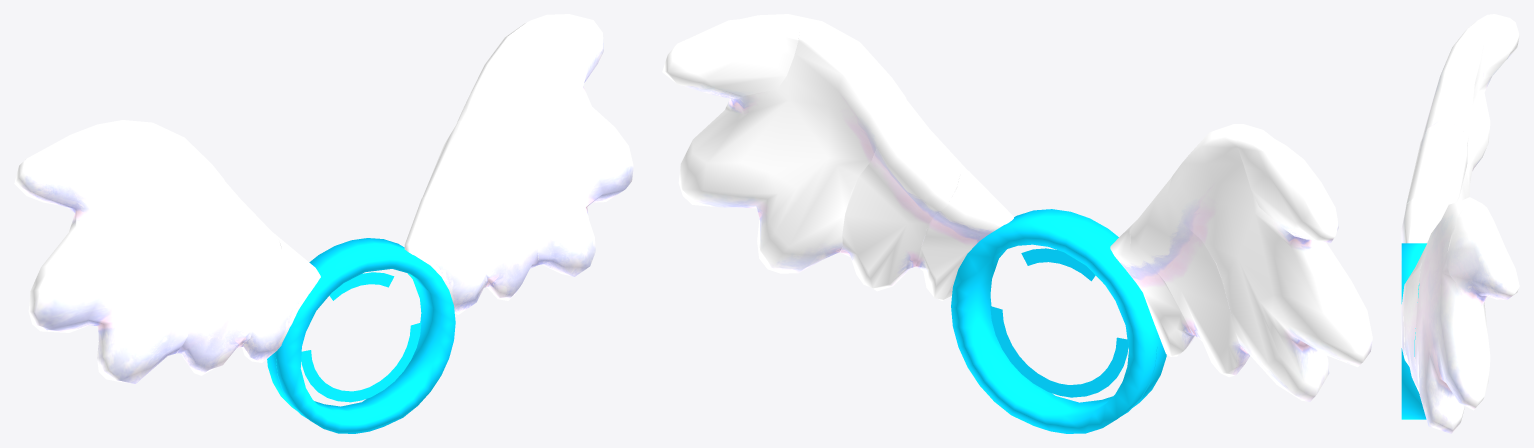
The model's file is blueBalloon.glb.
3 renders of one model, left to right at view 1: azimuth 30°, elevation 25°; view 2: azimuth 150°, elevation 25°; view 3: azimuth 270°, elevation 25°, orthographic. The views are drawn at different scales.
Parts seen in each view (by area): view 1: WingLP.001, Hoop, Animation; view 2: WingLP.001, Hoop, Animation; view 3: WingLP.001, Hoop.
Part boxes in pixels (bbox=[...]): WingLP.001: bbox=[14, 14, 633, 383]; Hoop: bbox=[267, 238, 455, 433]; Animation: bbox=[276, 272, 421, 417]; WingLP.001: bbox=[662, 14, 1372, 401]; Hoop: bbox=[951, 209, 1166, 433]; Animation: bbox=[990, 248, 1157, 415]; WingLP.001: bbox=[1401, 14, 1519, 433]; Hoop: bbox=[1401, 243, 1426, 419].
Size of what is drawn, in the model's own units: 10.35 by 5.48 by 1.98.
3 materials, 3 textured.
